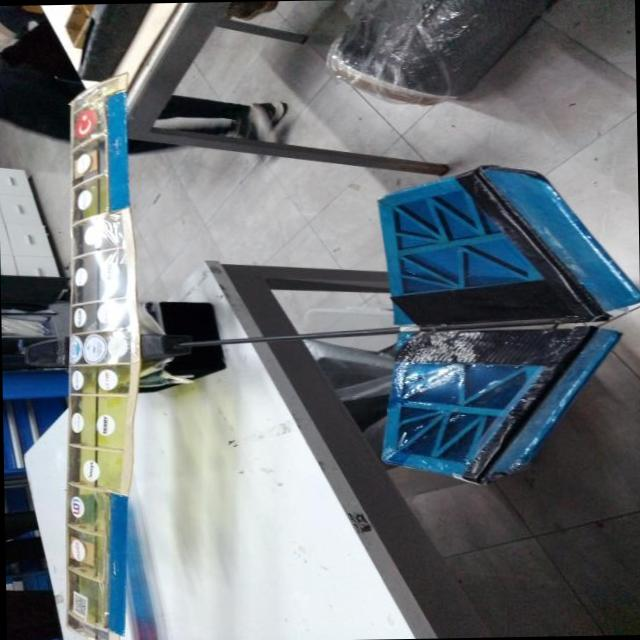UAV: (20, 0, 631, 630)
